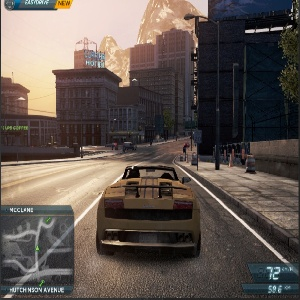ad: (85, 49, 110, 70), (1, 123, 30, 131)
building: (131, 34, 194, 140), (48, 67, 116, 146)
lamp post: (181, 12, 232, 170)
road sign: (189, 126, 207, 173)
vehicle: (122, 140, 139, 153)
